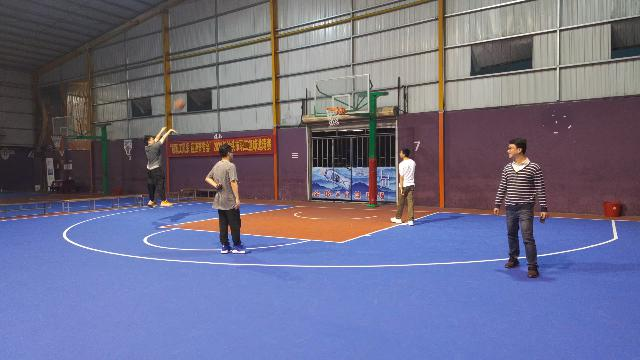ball: (172, 97, 186, 111)
basket: (324, 106, 344, 126), (50, 134, 64, 148)
